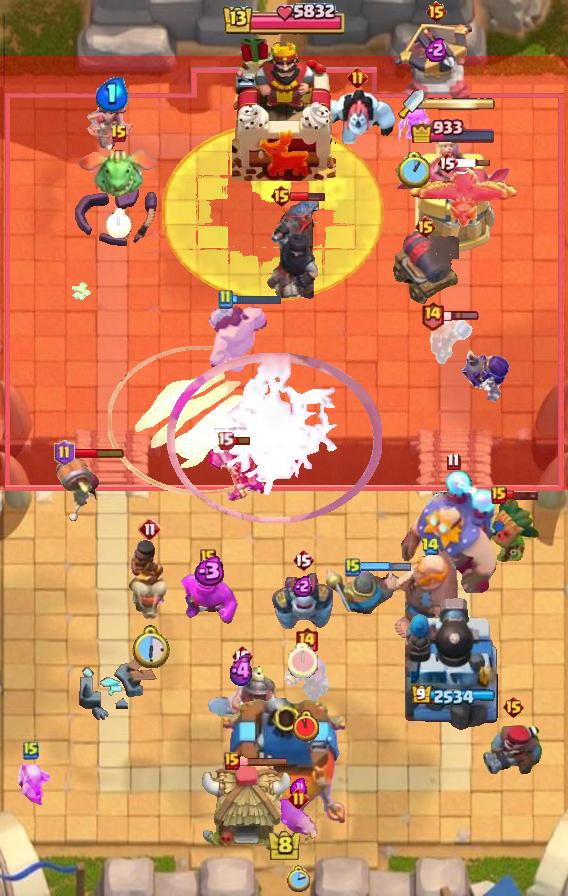balloon: (393, 546, 467, 654)
bandit: (206, 666, 278, 732)
bar: (394, 142, 512, 256)
barbarian-evolution: (166, 352, 381, 524)
clock: (221, 0, 347, 40)
electro-spirit: (95, 77, 129, 112), (190, 556, 226, 586), (227, 655, 257, 687), (425, 38, 448, 63), (293, 575, 313, 597), (289, 777, 307, 798)
electro-wizard: (78, 145, 160, 199)
elite-barbarian: (128, 540, 172, 622)
elixir: (130, 625, 170, 669), (397, 152, 430, 188), (288, 643, 318, 677), (293, 710, 319, 742), (106, 208, 132, 238), (286, 865, 310, 892)
elixir-golem-small: (270, 572, 336, 632)
emote: (71, 447, 124, 459), (230, 293, 281, 305), (360, 561, 411, 573), (237, 756, 289, 767), (443, 310, 480, 322), (290, 190, 326, 202), (504, 489, 540, 501), (455, 158, 491, 168), (231, 434, 251, 445)
firecracker: (321, 568, 407, 620)
giant: (272, 797, 324, 847)
goblin: (395, 102, 431, 142)
goblin-ball: (459, 349, 511, 405)
goblin-barrel: (483, 494, 541, 564)
golden-knight: (409, 164, 519, 230)
hog-rider: (427, 316, 475, 366)
ice-wizard: (108, 345, 296, 495)
inferno-dragon: (264, 195, 324, 301)
king-tower: (223, 698, 345, 826), (232, 39, 336, 181)
king-tower-bar: (424, 97, 496, 111)
knight: (53, 454, 101, 524)
lava-pup: (395, 24, 477, 104)
little-prince: (399, 469, 507, 595)
phoenix-egg: (162, 122, 385, 301)
phoenix-small: (481, 722, 545, 776)
prince: (198, 763, 292, 853)
rage: (204, 303, 270, 377), (317, 90, 397, 144)
royal-giant-evolution: (391, 230, 459, 304)
selected: (411, 116, 498, 143), (412, 685, 497, 707)
skeleton-dragon: (86, 92, 138, 150)
tesla-evolution: (206, 441, 270, 503)
text: (419, 301, 444, 332), (293, 627, 318, 658), (414, 215, 438, 239), (138, 517, 162, 541), (53, 440, 75, 466), (425, 0, 448, 24), (271, 184, 294, 208), (503, 695, 526, 719), (436, 151, 458, 175), (292, 548, 314, 572), (231, 644, 253, 668), (288, 787, 309, 809), (348, 68, 369, 89), (110, 124, 128, 144), (420, 537, 439, 555), (217, 430, 234, 449), (217, 289, 233, 309), (345, 557, 361, 577), (23, 740, 39, 760), (491, 486, 507, 504), (200, 549, 216, 567), (224, 752, 240, 770), (447, 453, 462, 471)
tombstone: (281, 649, 331, 703)
tornado: (176, 572, 240, 626)
tower-bar: (405, 595, 501, 731)
zap: (12, 761, 50, 807)
